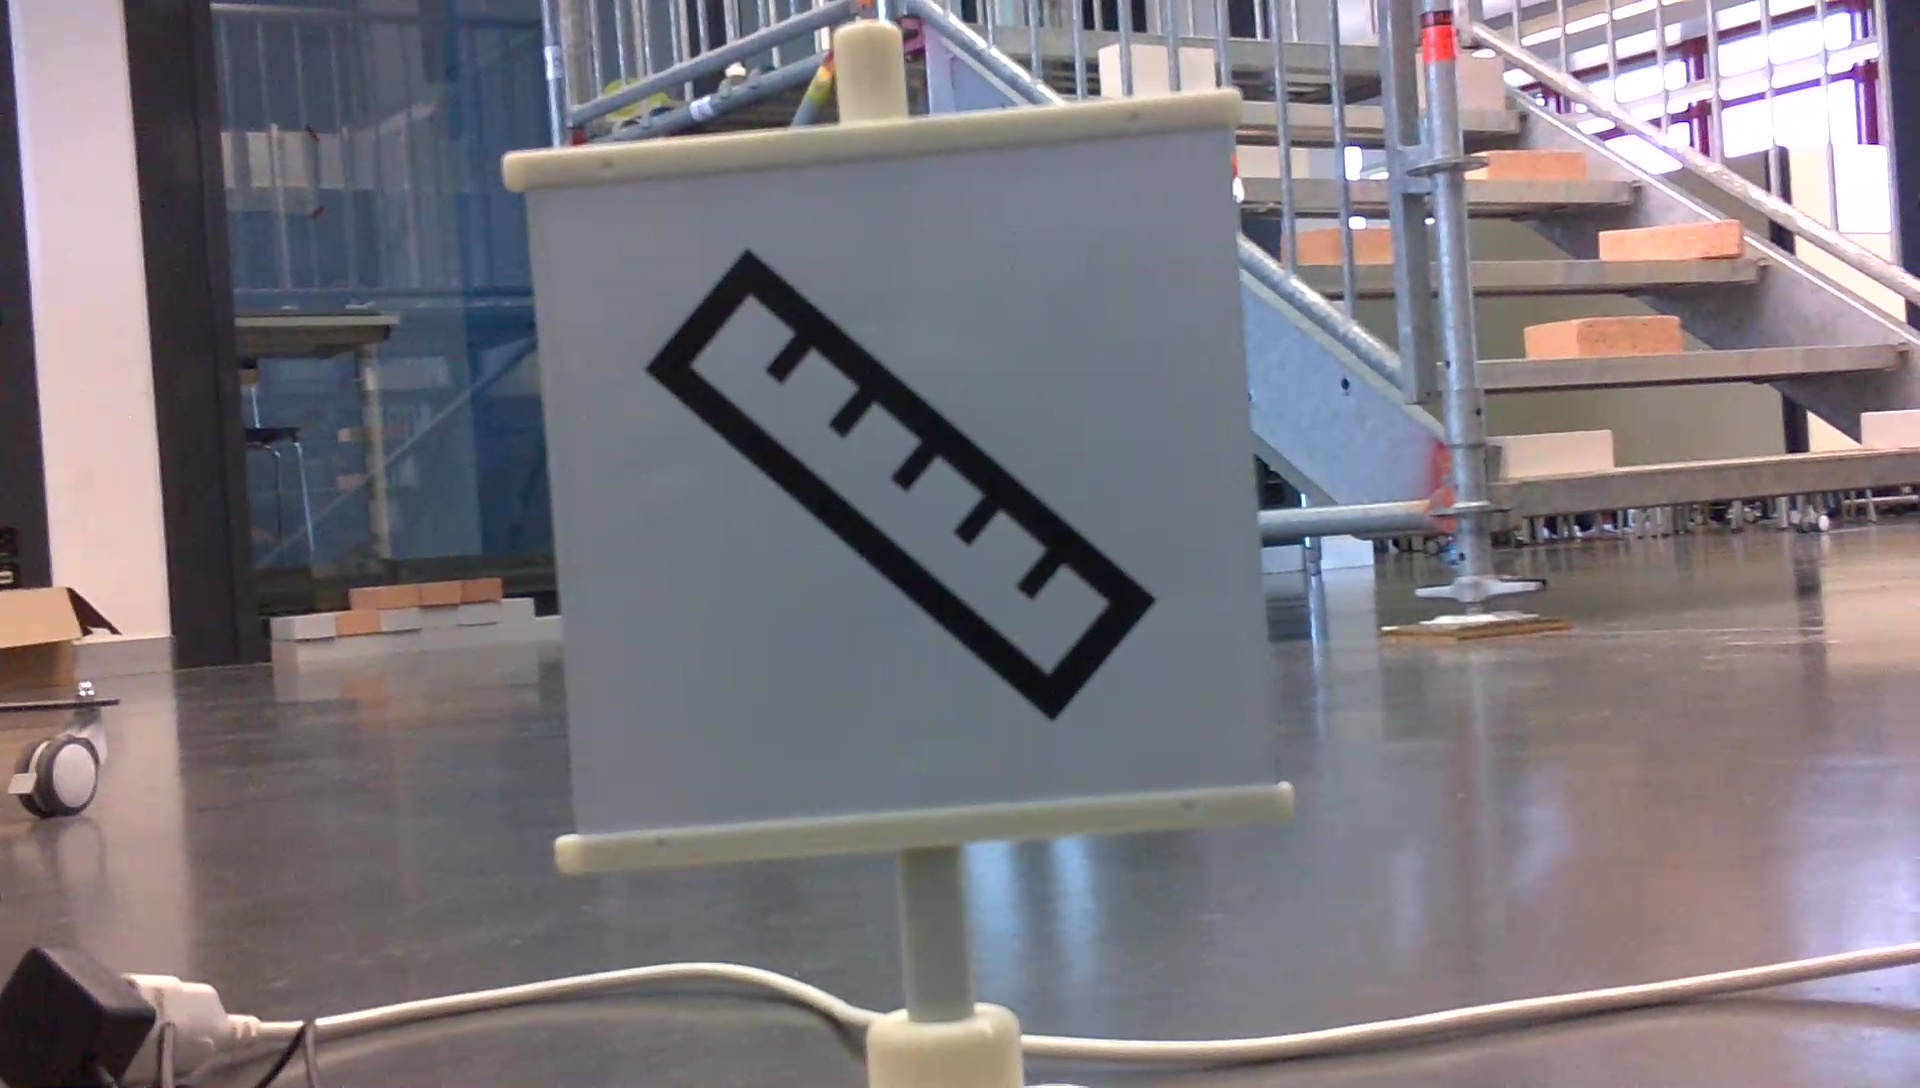brick: (1469, 429, 1619, 481), (1586, 216, 1745, 266), (1530, 317, 1685, 367), (1476, 141, 1584, 185)
edge: (1501, 448, 1920, 528), (1456, 346, 1903, 378), (1474, 253, 1756, 302)
ruler: (638, 231, 1159, 745)
